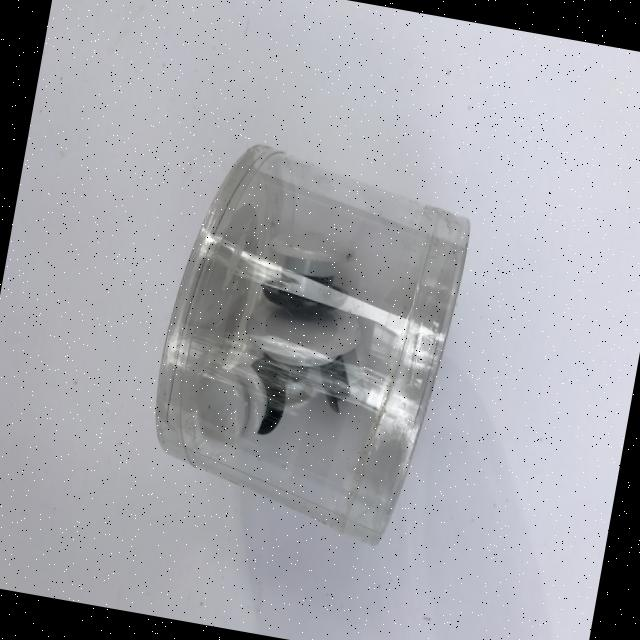plastic: (134, 132, 480, 552)
